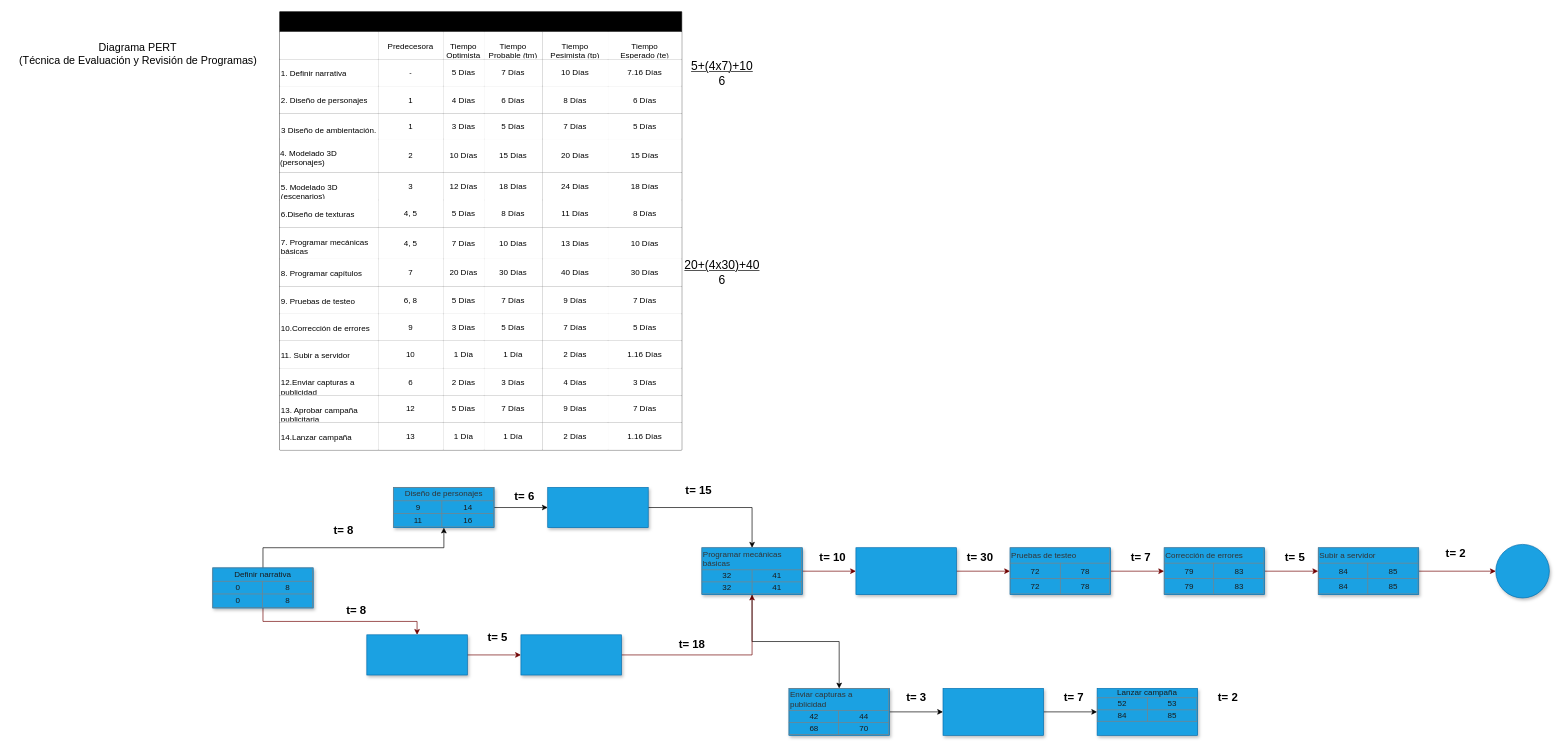
The diagram is 1565 pixels wide and 752 high, and some of its shapes have lost their labels. The shapes that lost their labels are listed below. From the top down, each one's centre as x and y in pixels, then its label:
At (x=598, y=508): "Modelado 3D (personajes) 15 29 17 31".
At (x=906, y=571): "Programar capítulos 42 71 42 71".
At (x=417, y=655): "Diseño de ambientación 9 13 9 13".
At (x=571, y=655): "Modelado 3D (escenarios) 14 31 14 31".
At (x=994, y=712): "Aprobar campaña publicitaria 45 51 71 77".
